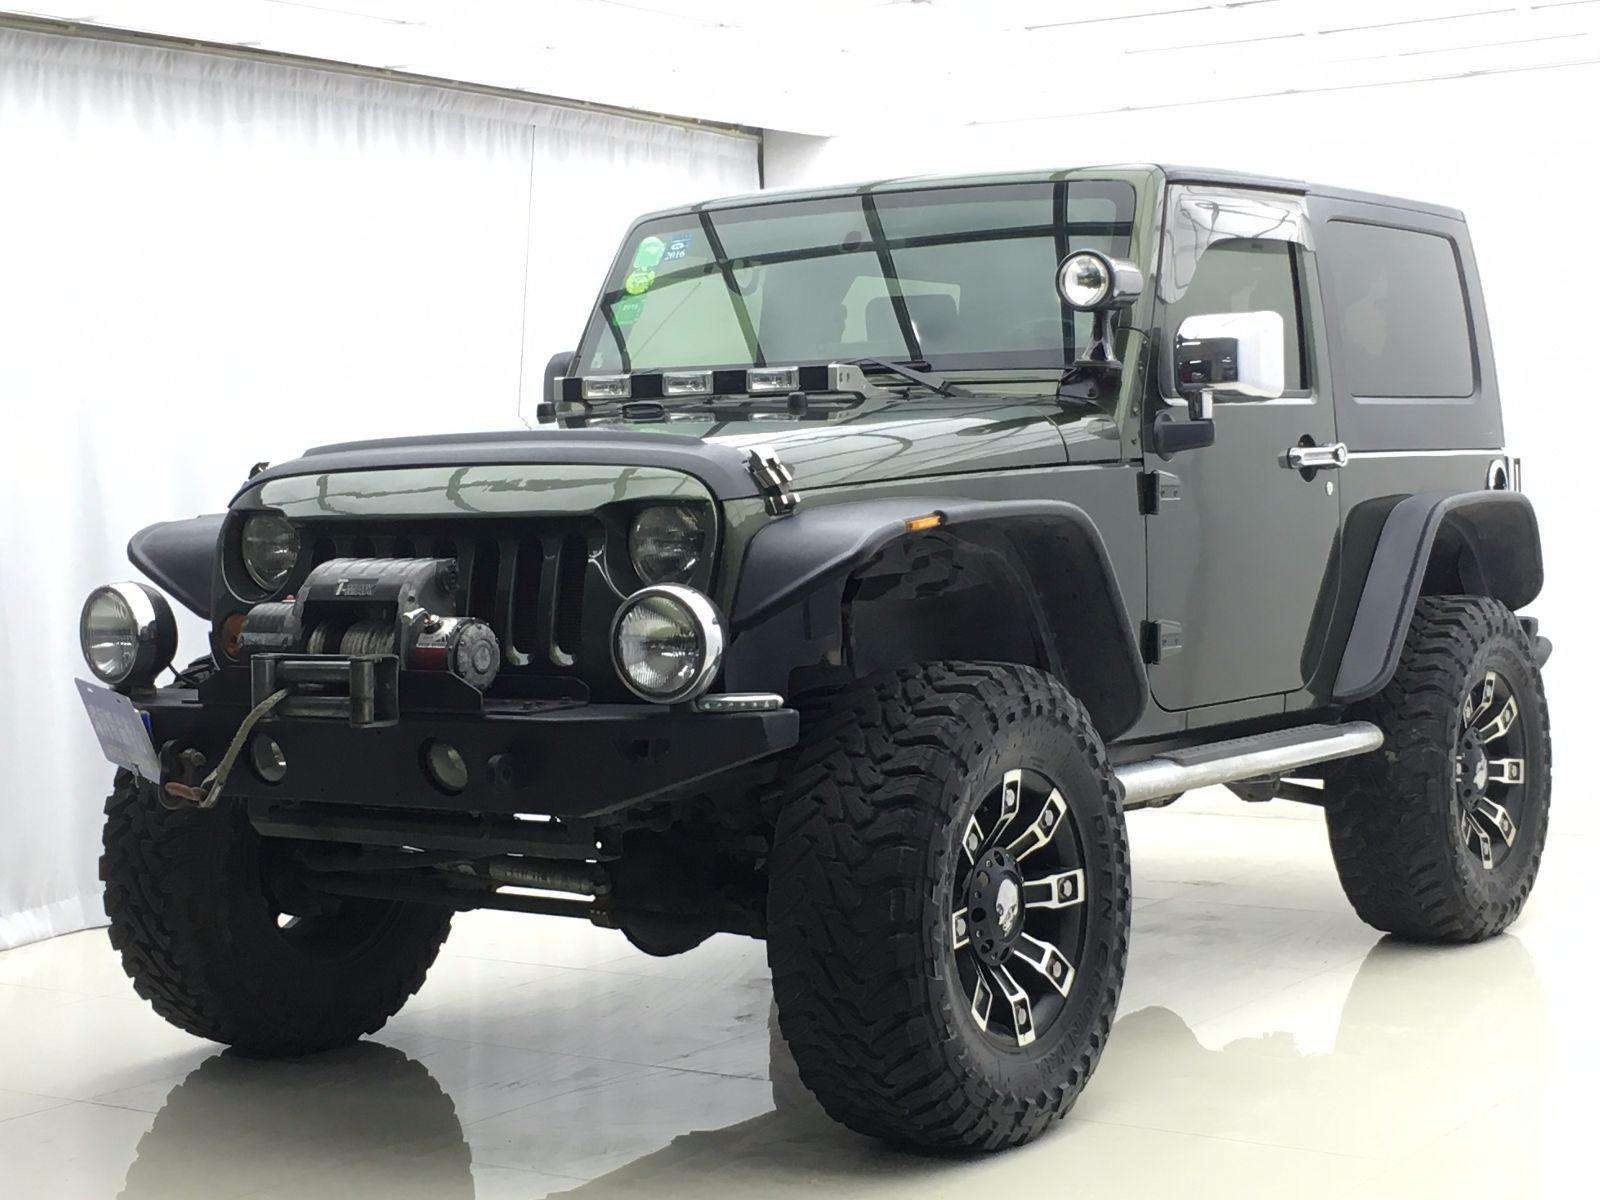jeep: (84, 145, 1561, 1148)
